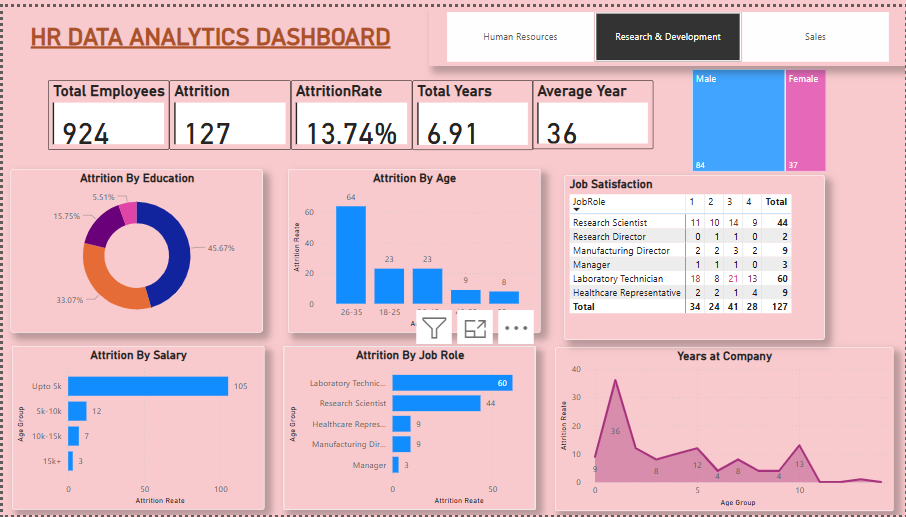

The dashboard page shown, as its layout file describes it:
{"tool":"powerbi","page":{"name":"Page 1","canvas":[1280,720],"ordinal":0},"visuals":[{"type":"cardVisual","title":"Total Employees","fields":{"Data":["CountNonNull(HR_Analytics.EmpID)"]},"box":[64,104,172,98],"z":0},{"type":"cardVisual","title":"Attrition","fields":{"Data":["Sum(HR_Analytics.AttritionRate)"]},"box":[236,104,172,98],"z":1000},{"type":"cardVisual","title":"AttritionRate","fields":{"Data":["HR_Analytics.Attrition_Rate"]},"box":[408,104,172,98],"z":2000},{"type":"cardVisual","title":"Total Years","fields":{"Data":["Avg(HR_Analytics.YearsAtCompany)"]},"box":[580,103.8,171.2,98.8],"z":3000},{"type":"cardVisual","title":"Average Year","fields":{"Data":["Median(HR_Analytics.Age)"]},"box":[751.2,103.8,171.2,97.5],"z":4000},{"type":"donutChart","title":"Attrition By Education","fields":{"Category":["HR_Analytics.EducationField"],"Y":["Sum(HR_Analytics.AttritionRate)"]},"box":[10,230,358,232],"z":5000},{"type":"clusteredColumnChart","title":"Attrition By Age","fields":{"Category":["HR_Analytics.AgeGroup"],"Y":["Sum(HR_Analytics.AttritionRate)"]},"box":[404,230,358,232],"z":6000},{"type":"pivotTable","title":"Job Satisfaction","fields":{"Rows":["HR_Analytics.JobRole"],"Columns":["HR_Analytics.JobSatisfaction"],"Values":["Sum(HR_Analytics.AttritionRate)"]},"box":[796,238,370,234],"z":7000},{"type":"barChart","title":"Attrition By Salary","fields":{"Category":["HR_Analytics.SalarySlab"],"Y":["Sum(HR_Analytics.AttritionRate)"]},"box":[12,480,358,232],"z":8000},{"type":"barChart","title":"Attrition By Job Role","fields":{"Category":["HR_Analytics.JobRole"],"Y":["Sum(HR_Analytics.AttritionRate)"]},"box":[398,480,358,232],"z":9000},{"type":"stackedAreaChart","title":"Years at Company","fields":{"Category":["HR_Analytics.YearsAtCompany"],"Y":["Sum(HR_Analytics.AttritionRate)"]},"box":[784,482,480,232],"z":10000},{"type":"treemap","title":"Gender","fields":{"Group":["HR_Analytics.Gender"],"Values":["Sum(HR_Analytics.AttritionRate)"]},"box":[972.5,83.8,200,155],"z":11000},{"type":"slicer","fields":{"Values":["HR_Analytics.Department"]},"box":[604,0,676,84],"z":12000},{"type":"textbox","box":[34,16,546,68],"z":13000}]}

Visuals, with their boxes in screenshot pixels (x1, y1, x2, y2), scaled from the page's 1280x720 canvas onto the 906x517 screenshot:
"Total Employees" cardVisual: <box>45,75,167,145</box>
"Attrition" cardVisual: <box>167,75,289,145</box>
"AttritionRate" cardVisual: <box>289,75,411,145</box>
"Total Years" cardVisual: <box>411,75,532,145</box>
"Average Year" cardVisual: <box>532,75,653,145</box>
"Attrition By Education" donutChart: <box>7,165,260,332</box>
"Attrition By Age" clusteredColumnChart: <box>286,165,539,332</box>
"Job Satisfaction" pivotTable: <box>563,171,825,339</box>
"Attrition By Salary" barChart: <box>8,345,262,511</box>
"Attrition By Job Role" barChart: <box>282,345,535,511</box>
"Years at Company" stackedAreaChart: <box>555,346,895,513</box>
"Gender" treemap: <box>688,60,830,171</box>
slicer - HR_Analytics.Department: <box>428,0,905,60</box>
textbox: <box>24,11,411,60</box>
